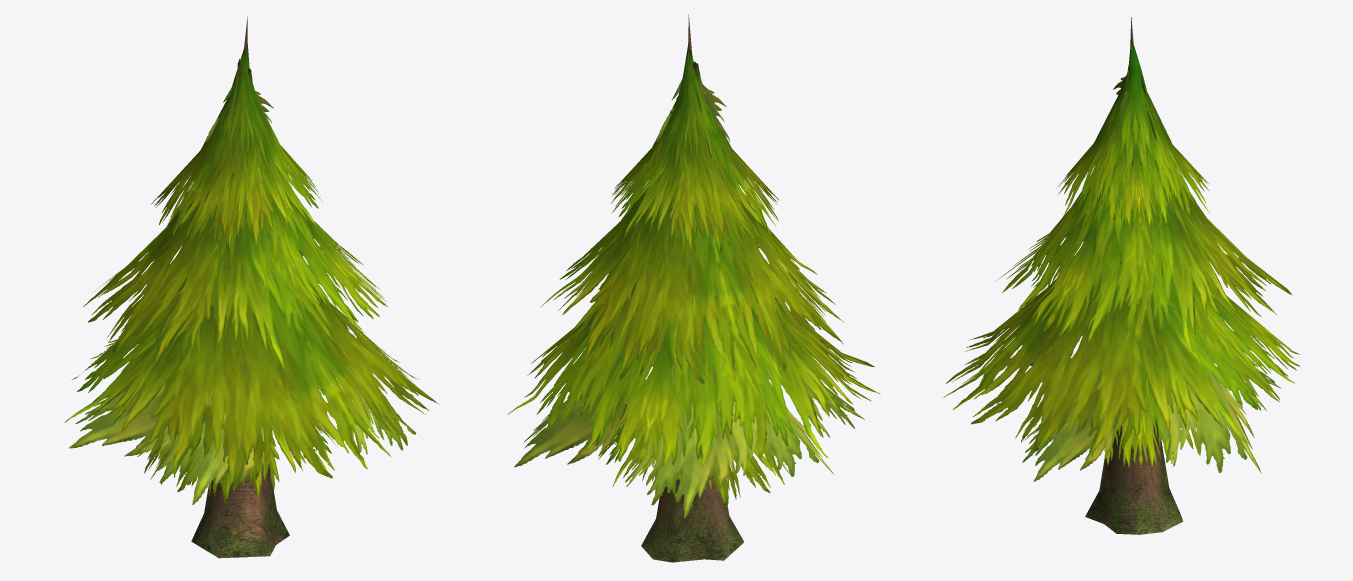
File: Pine_GreenYellow_01.FBX
The picture shows the model from 3 angles, left to right: view 1: azimuth 30°, elevation 25°; view 2: azimuth 150°, elevation 25°; view 3: azimuth 270°, elevation 25°; orthographic projection. The views are drawn at different scales.
Parts seen in each view (by area): view 1: pine_greenYellow_01; view 2: pine_greenYellow_01; view 3: pine_greenYellow_01.
Boxes of the visible parts, left/top/right/bottom form: pine_greenYellow_01: left=64, top=16, right=439, bottom=558; pine_greenYellow_01: left=507, top=14, right=880, bottom=562; pine_greenYellow_01: left=943, top=17, right=1300, bottom=534.
Size of the model in its own units: 27.66 by 26.16 by 35.7.
2 materials, 2 textured.
